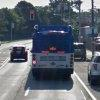Bus: (30, 23, 79, 84)
